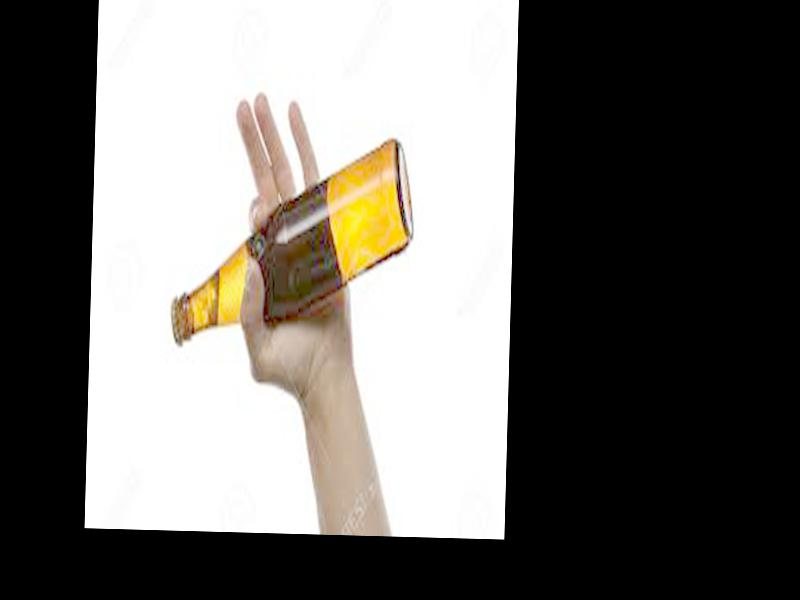Beer: (175, 139, 414, 347)
